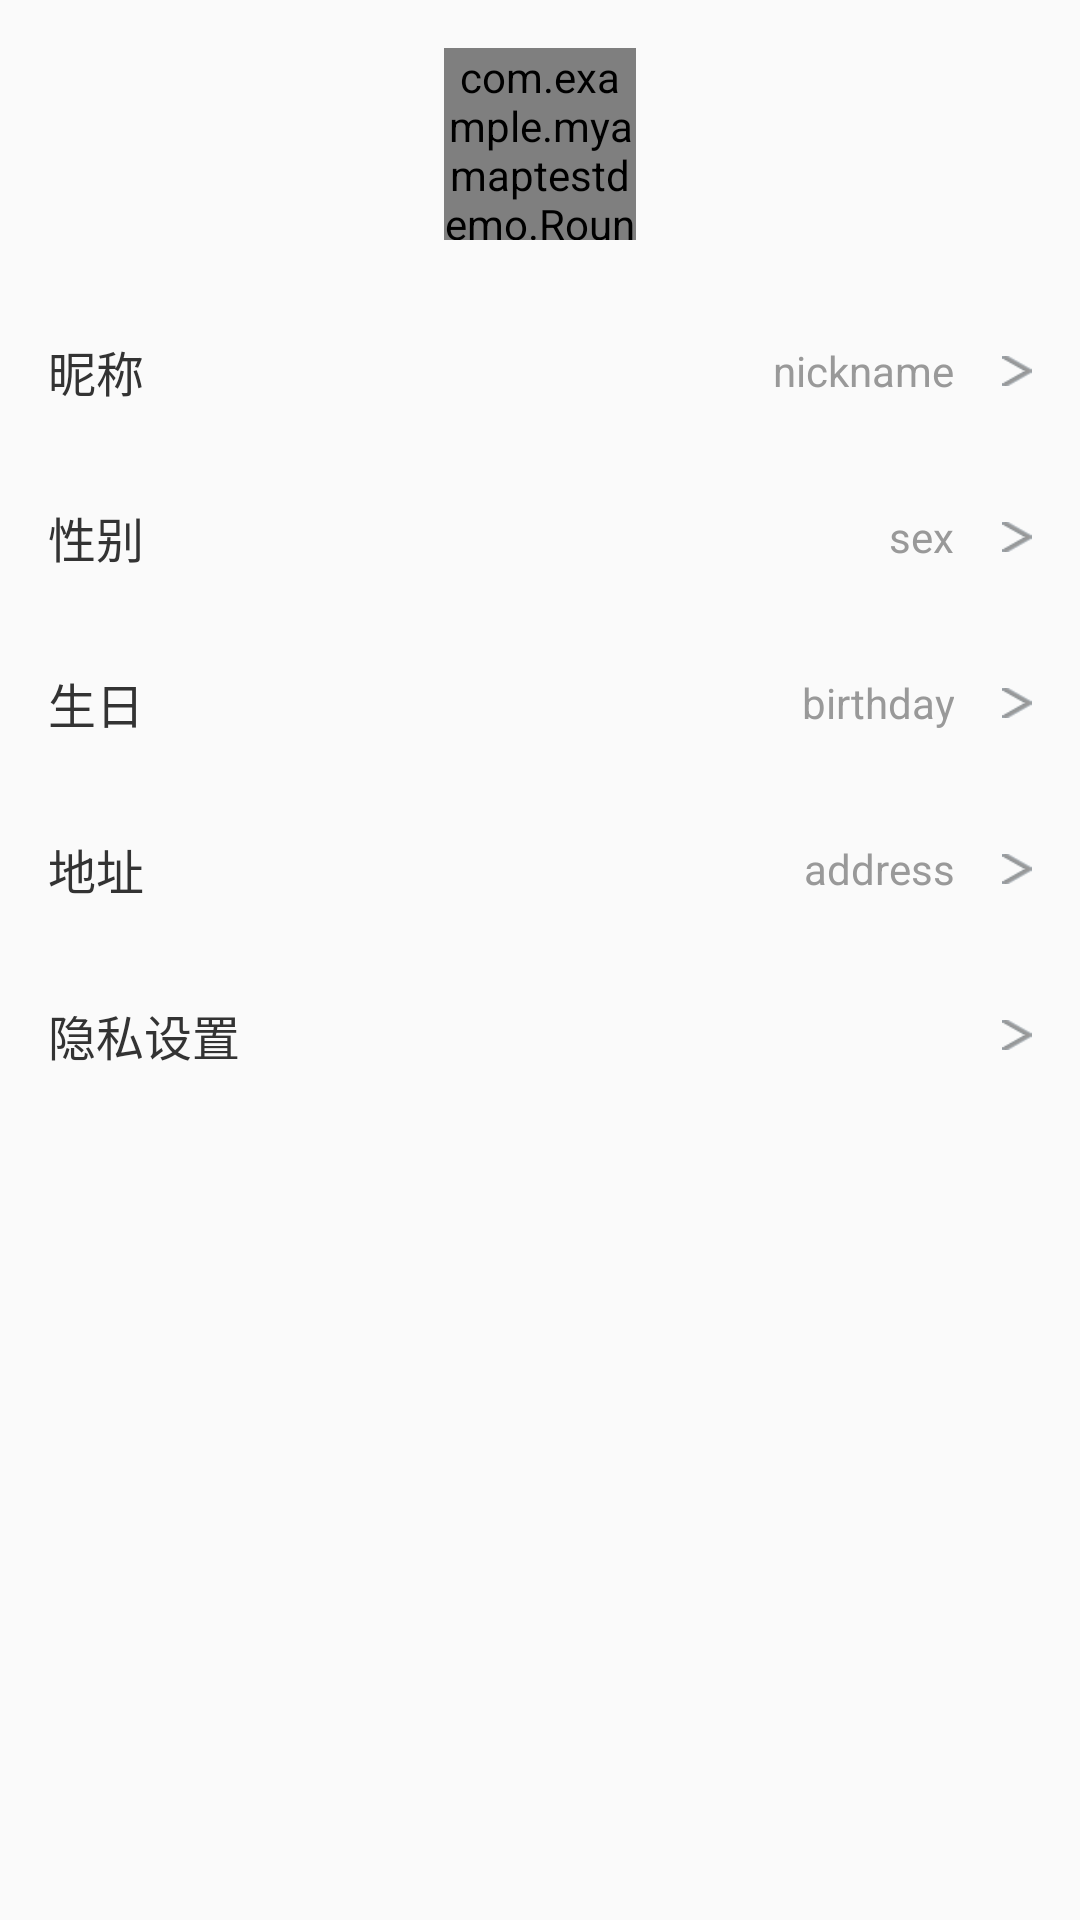

Icon click points for this 1080 × 1920 phone screenshot, format point (x, y):
arrow right: point (1017, 371), point (1017, 537), point (1017, 703), point (1017, 869), point (1017, 1035)
